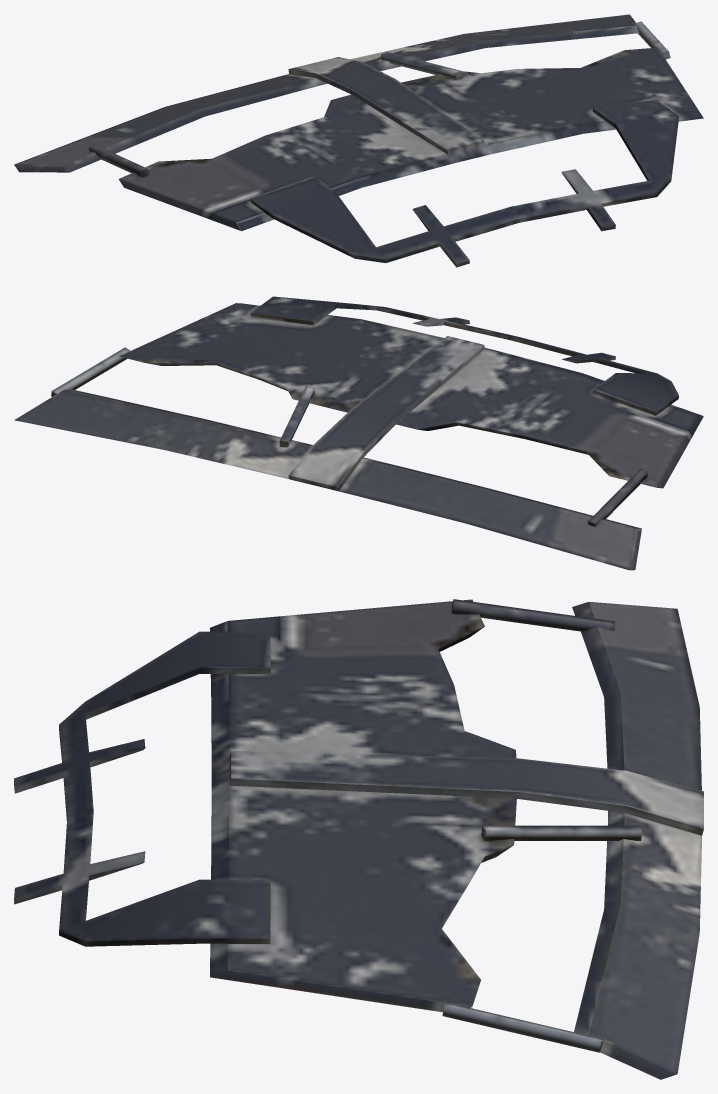
The model's file is FordCrownVic92WindshieldArmor_WorldItem.fbx.
3 renders of one model, top to bottom at view 1: azimuth 30°, elevation 25°; view 2: azimuth 150°, elevation 25°; view 3: azimuth 270°, elevation 25°, orthographic. The views are drawn at different scales.
Visible parts, largest first — view 1: WindshieldArmor_obj; view 2: WindshieldArmor_obj; view 3: WindshieldArmor_obj.
Part boxes in pixels (box(x1,y1,x2,y2)): WindshieldArmor_obj: box(14, 14, 703, 267); WindshieldArmor_obj: box(14, 296, 703, 570); WindshieldArmor_obj: box(14, 599, 703, 1079).
Bounding box in the file's own units: 3.01 × 0.2475 × 1.89.
